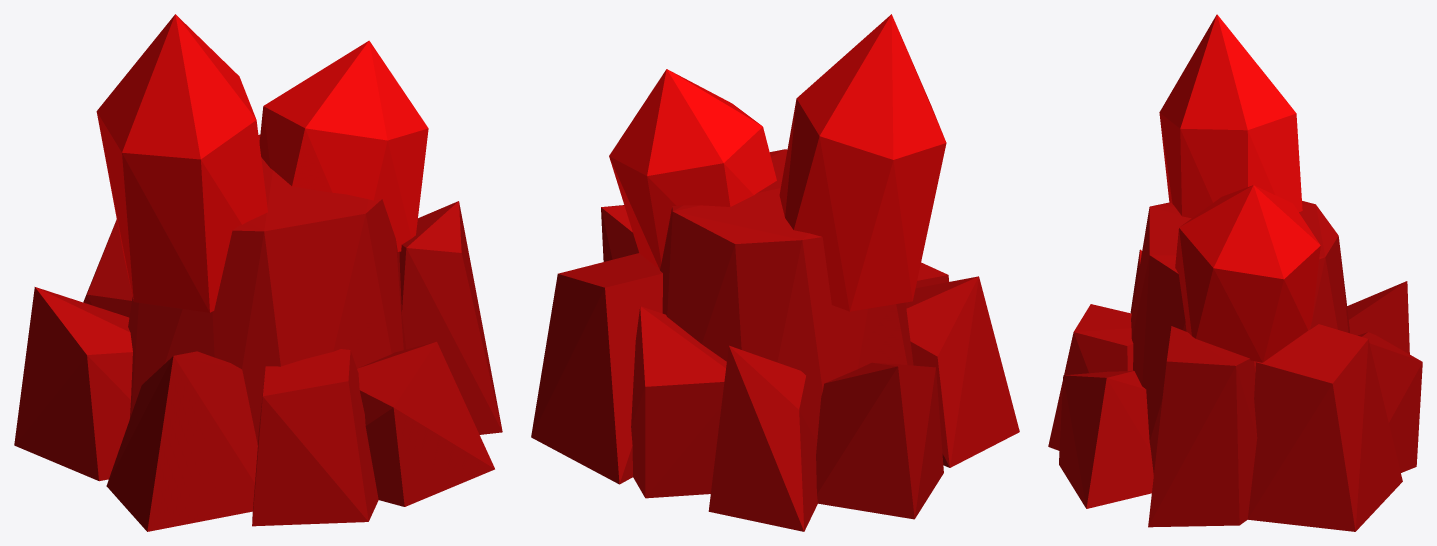
File: SM_HealChunk_02.fbx
3 views of the same model, side by side, from view 1: azimuth 30°, elevation 25°; view 2: azimuth 150°, elevation 25°; view 3: azimuth 270°, elevation 25° (orthographic). The views are drawn at different scales.
Visible parts, largest first — view 1: SM_HealChunk_02; view 2: SM_HealChunk_02; view 3: SM_HealChunk_02.
Boxes of the visible parts, left/top/right/bottom form: SM_HealChunk_02: left=14, top=14, right=502, bottom=531; SM_HealChunk_02: left=531, top=14, right=1019, bottom=531; SM_HealChunk_02: left=1048, top=14, right=1422, bottom=531.
Bounding box in the file's own units: 26.76 × 30 × 25.91.
